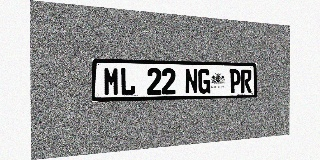2: (147, 68, 161, 95), (162, 68, 175, 94)
G: (198, 69, 210, 94)
L: (120, 67, 135, 95)
M: (103, 67, 119, 96)
N: (185, 68, 198, 94)
P: (229, 69, 241, 93)
R: (241, 69, 252, 93)
